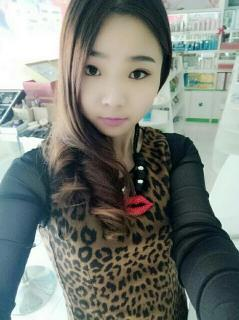vest: (38, 126, 189, 319)
